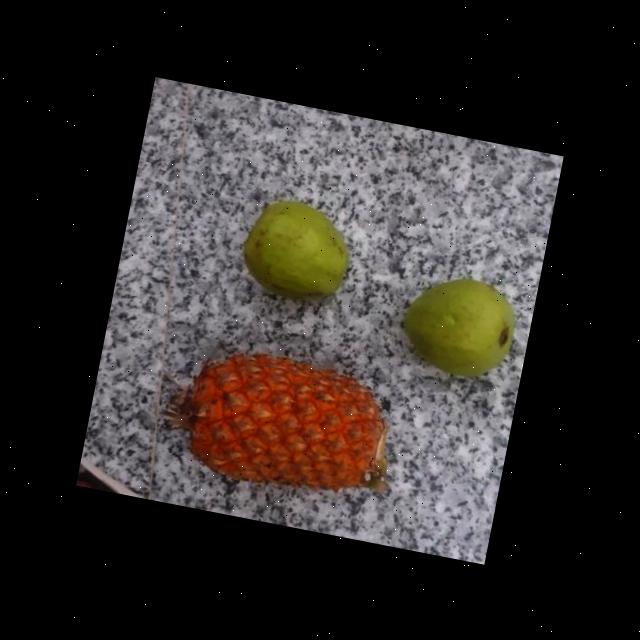guava: (397, 268, 523, 388), (235, 196, 354, 314)
pineapple: (161, 340, 409, 508)
